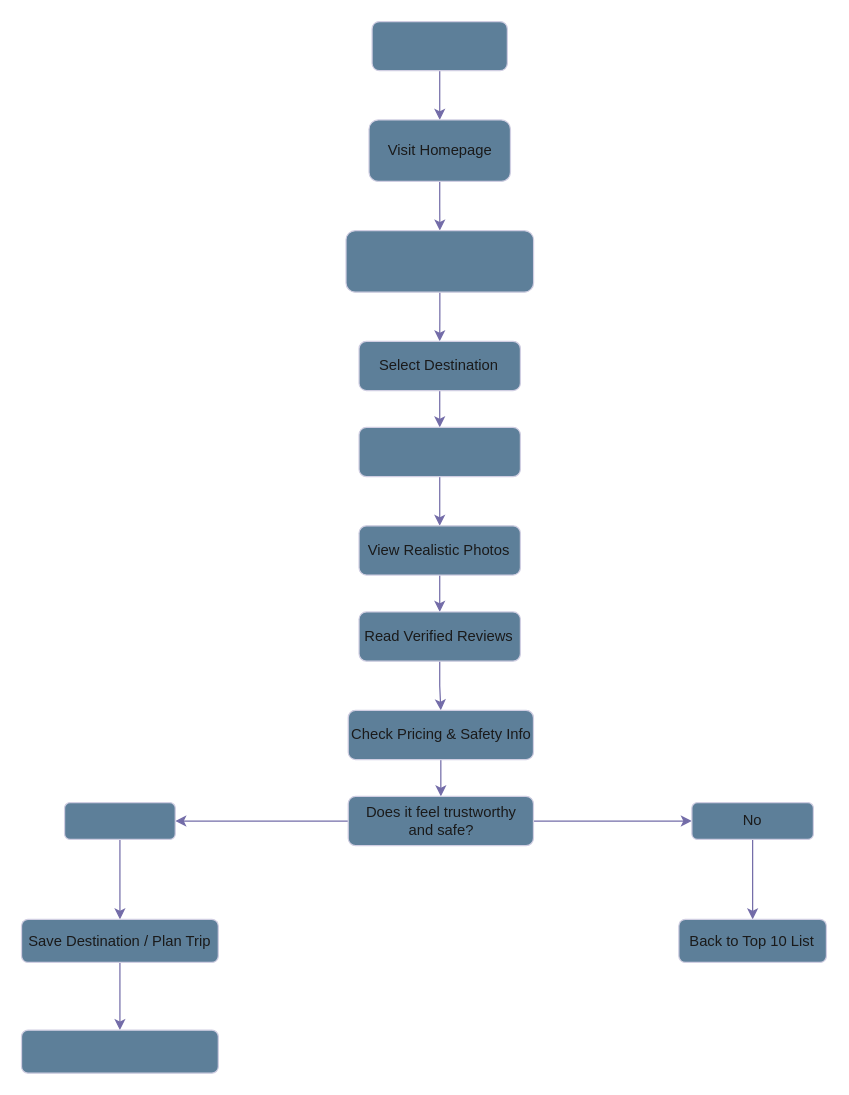
The diagram is 849 pixels wide and 1095 high, and some of its shapes have lost their labels. The centre of each missing label's shape, as x and y in pixels:
"Destination Selected" belongs at pixel 119 1051.
"Start" belongs at pixel 439 45.
"View Top 10 Waterfront List" belongs at pixel 439 260.
"Visit Destination Page" belongs at pixel 439 451.
"Yes" belongs at pixel 119 820.
